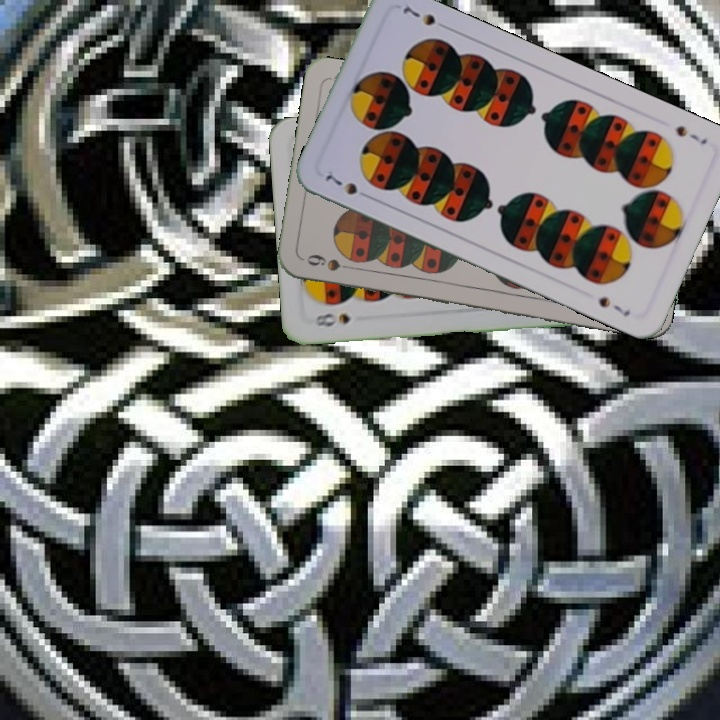S7: (321, 170, 374, 202), (671, 121, 710, 148)
S8: (311, 309, 353, 329)
S9: (302, 250, 360, 274)
